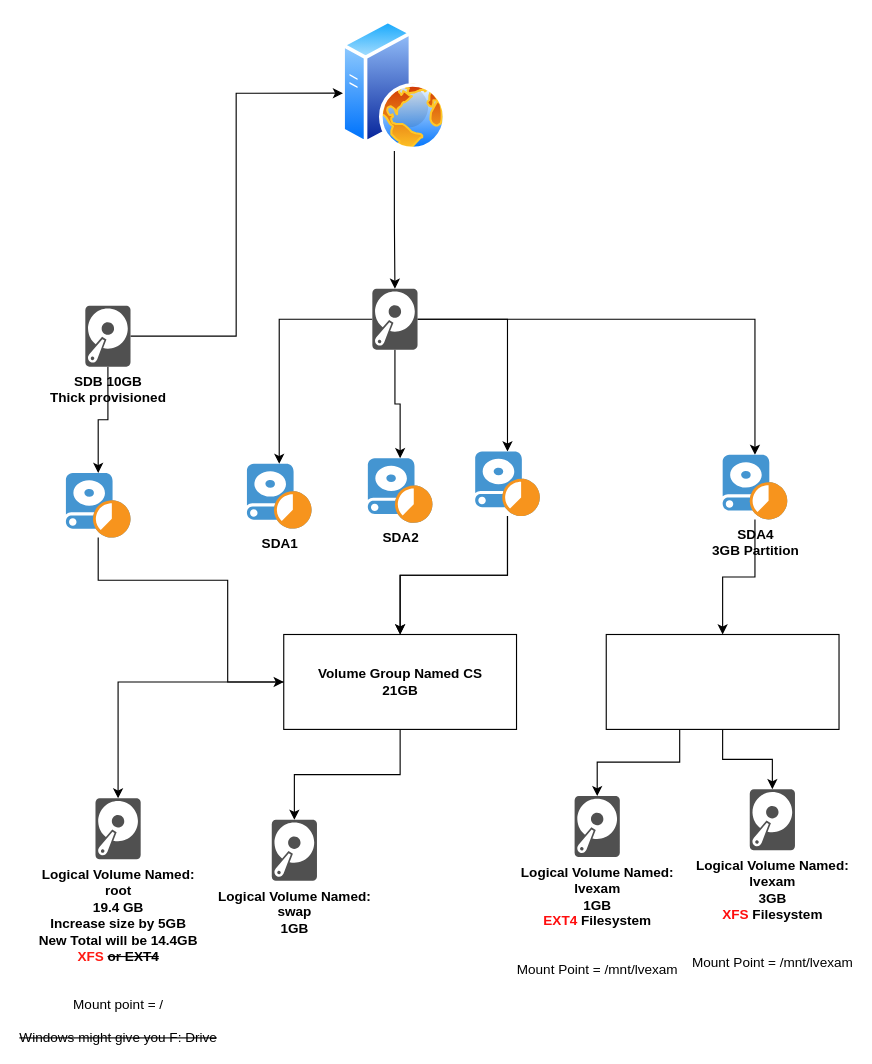
The diagram is 872 pixels wide and 1064 high, and some of its shapes have lost their labels. The shapes that lost their labels are listed below. From the top down, each one's box as (x1, y1, x2, y2) in pixels, then its label:
(341, 19, 446, 151): angounou-md-red3 / 10.1.15.243
(372, 288, 417, 349): SDA 17GB Thick provisioned
(475, 451, 539, 516): SDA3 11GB Partition
(65, 472, 130, 537): SDB1
(605, 633, 839, 729): Volume Group Named vgexam 3GB/3GB
